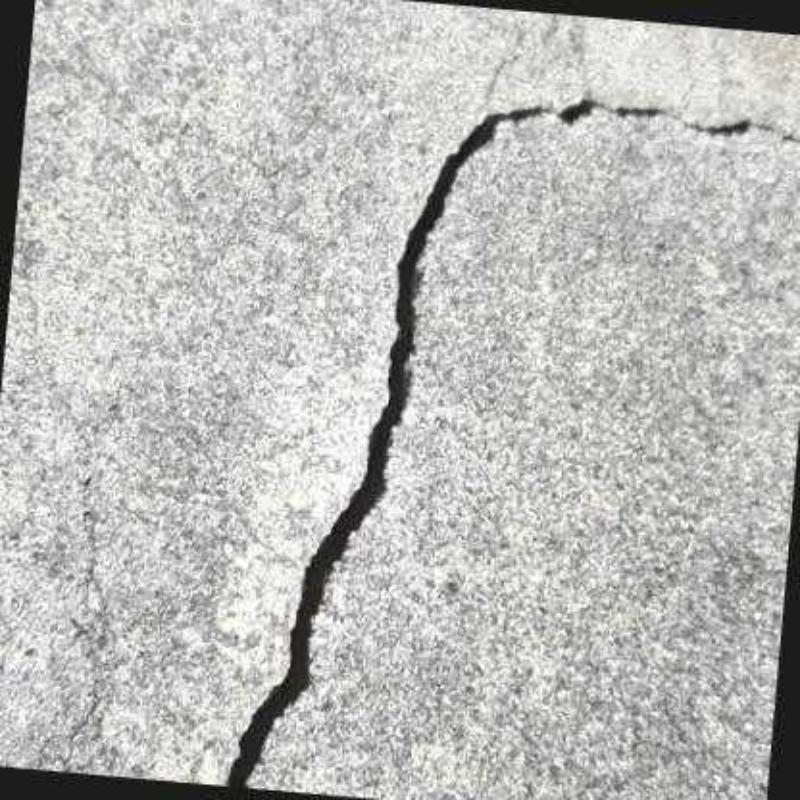pothole: (220, 96, 798, 789)
